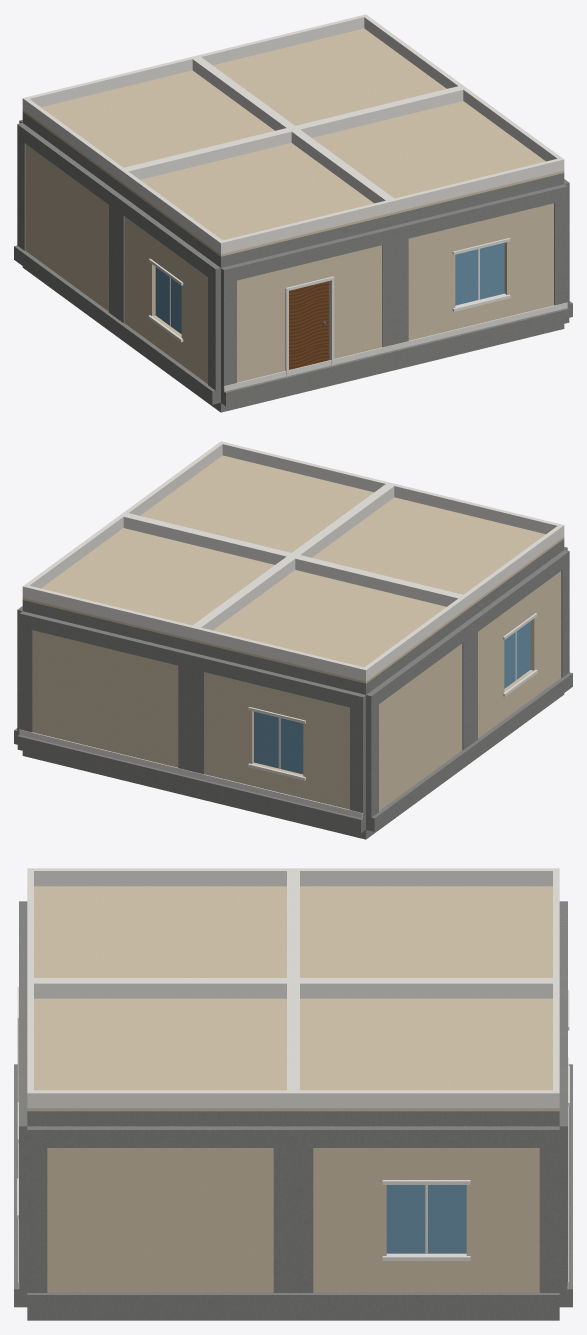
File: house_5.glb
3 renders of one model, top to bottom at view 1: azimuth 30°, elevation 25°; view 2: azimuth 150°, elevation 25°; view 3: azimuth 270°, elevation 25°, orthographic. The views are drawn at different scales.
Parts seen in each view (by area): view 1: Cube.077, Cube.089, Cube.083, Cube.095, Cube.022, Cube.012, Cube.058, Cube.048, Cube.076, Cube.017, Cube.011, Cube.021 (+37 smaller); view 2: Cube.042, Cube.083, Cube.095, Cube.077, Cube.089, Cube.032, Cube.058, Cube.048, Cube.082, Cube.031, Cube.041, Cube.028 (+35 smaller); view 3: Cube.064, Cube.070, Cube.089, Cube.095, Cube.077, Cube.083, Cube.063, Cube.069, Cube.060, Cube.066, Cube.074, Cube.080 (+32 smaller).
Boxes of the visible parts, box(x1,y1,x2,y2) form: Cube.077: box(121, 143, 392, 256); Cube.089: box(312, 101, 564, 214); Cube.083: box(22, 70, 274, 183); Cube.095: box(213, 28, 446, 125); Cube.022: box(408, 203, 553, 340); Cube.012: box(237, 245, 382, 382); Cube.058: box(25, 144, 108, 311); Cube.048: box(124, 216, 207, 383); Cube.076: box(121, 184, 392, 267); Cube.017: box(289, 281, 328, 369); Cube.011: box(221, 226, 395, 283); Cube.021: box(393, 184, 567, 241); Cube.042: box(33, 630, 178, 767); Cube.083: box(194, 570, 465, 683); Cube.095: box(22, 528, 274, 641); Cube.077: box(312, 497, 564, 610); Cube.089: box(140, 455, 373, 552); Cube.032: box(204, 672, 349, 809); Cube.058: box(379, 643, 462, 810); Cube.048: box(478, 571, 561, 738); Cube.082: box(194, 611, 465, 694); Cube.031: box(191, 653, 365, 710); Cube.041: box(19, 611, 193, 668); Cube.028: box(189, 777, 365, 833); Cube.064: box(47, 1148, 273, 1292); Cube.070: box(313, 1148, 539, 1292); Cube.089: box(27, 998, 293, 1111); Cube.095: box(293, 998, 559, 1111); Cube.077: box(34, 886, 286, 977); Cube.083: box(300, 886, 552, 977); Cube.063: box(27, 1126, 293, 1147); Cube.069: box(293, 1126, 559, 1147); Cube.060: box(27, 1292, 293, 1312); Cube.066: box(293, 1292, 559, 1312); Cube.074: box(386, 1185, 466, 1253); Cube.080: box(34, 868, 286, 886).
Size of the model in its own units: 8.4 by 3.77 by 8.4.
50 materials, 50 textured.
